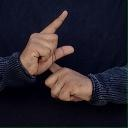hand: (19, 9, 74, 76), (44, 63, 94, 102)
